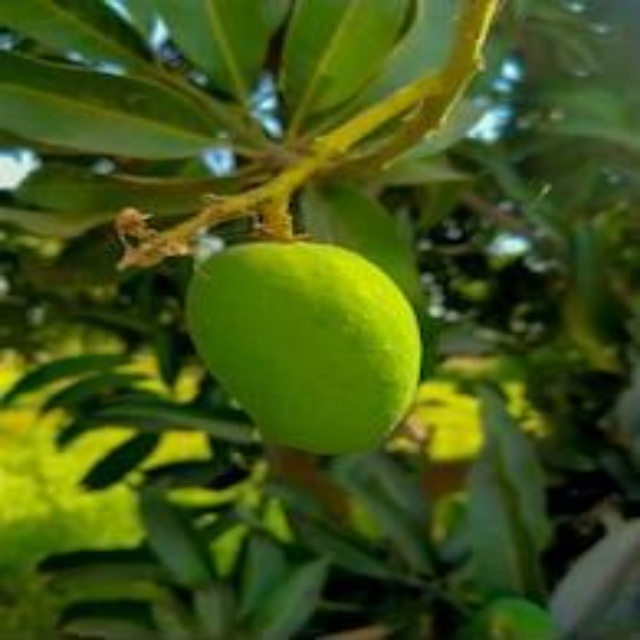mango: (193, 241, 428, 458)
